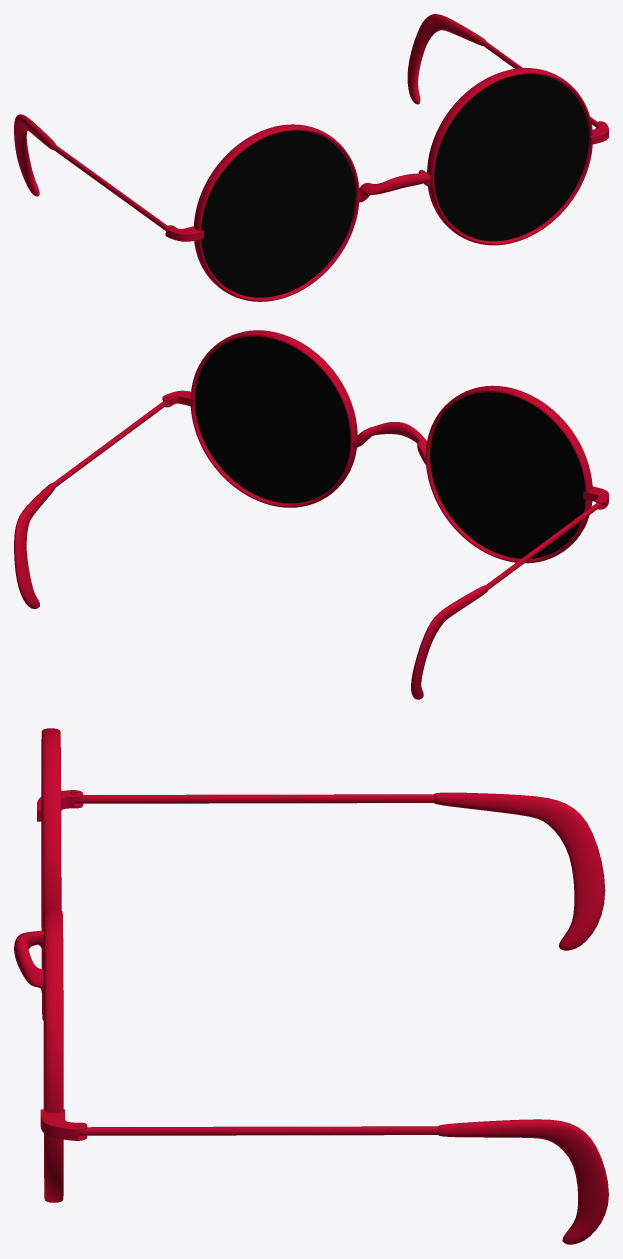
File: Red Glass.GLB
3 views of the same model, one above another, from view 1: azimuth 30°, elevation 25°; view 2: azimuth 150°, elevation 25°; view 3: azimuth 270°, elevation 25° (orthographic). The views are drawn at different scales.
Parts seen in each view (by area): view 1: polySurface3, polySurface2, polySurface4, polySurface1, pCube4, pCube2, pCube3, pCube1; view 2: polySurface3, polySurface2, polySurface4, polySurface1, pCube2, pCube4, pCube3; view 3: pCube4, pCube2, polySurface4, polySurface1, pCube3, pCube5.
Part boxes in pixels (x1,y1,x2,y2): polySurface3: [434, 74, 588, 241]; polySurface2: [201, 130, 355, 297]; polySurface4: [427, 68, 592, 245]; polySurface1: [193, 124, 359, 301]; pCube4: [14, 114, 167, 230]; pCube2: [407, 14, 596, 127]; pCube3: [359, 169, 431, 202]; pCube1: [165, 225, 203, 241]; polySurface3: [195, 336, 350, 503]; polySurface2: [430, 392, 585, 558]; polySurface4: [190, 330, 357, 507]; polySurface1: [425, 385, 592, 563]; pCube2: [14, 401, 169, 608]; pCube4: [411, 503, 602, 699]; pCube3: [353, 422, 426, 464]; pCube4: [74, 792, 605, 950]; pCube2: [78, 1119, 608, 1244]; polySurface4: [43, 908, 63, 1202]; polySurface1: [41, 728, 61, 1020]; pCube3: [14, 930, 43, 996]; pCube5: [40, 1109, 87, 1140].
Size of the model in its own units: 5.6 by 2.09 by 4.19.
